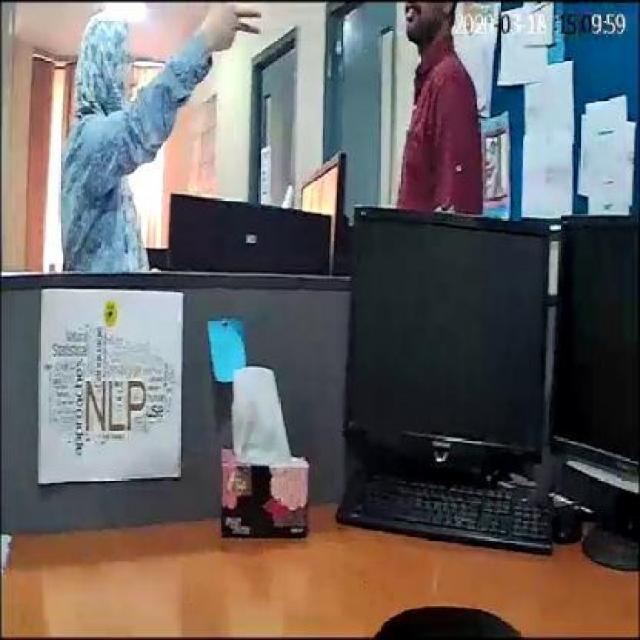spill: (372, 601, 513, 640)
